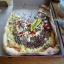pizza: (4, 11, 61, 57)
